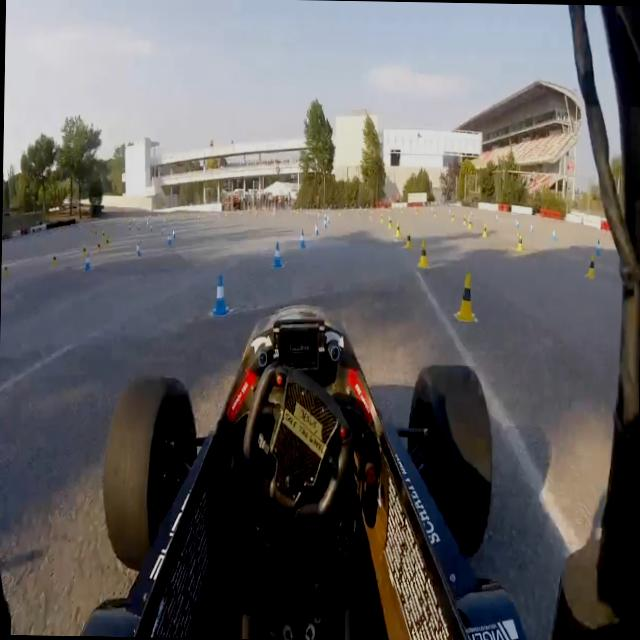blue_cone: (212, 274, 228, 318), (272, 240, 282, 268), (84, 248, 90, 274), (299, 228, 305, 248), (596, 238, 602, 258), (135, 239, 140, 260), (528, 220, 534, 237), (166, 229, 171, 247), (551, 227, 556, 245), (514, 217, 519, 235), (170, 227, 175, 243), (322, 216, 327, 231), (314, 222, 318, 236)
yellow_cone: (457, 274, 474, 320), (586, 248, 596, 284), (514, 230, 524, 256), (418, 241, 426, 268), (80, 240, 88, 264), (2, 260, 9, 284), (51, 248, 58, 272), (481, 222, 488, 242), (95, 237, 101, 259), (405, 230, 411, 250), (395, 222, 401, 239), (462, 212, 467, 228), (379, 211, 384, 226), (468, 214, 472, 231), (388, 215, 392, 228), (450, 211, 454, 222)
